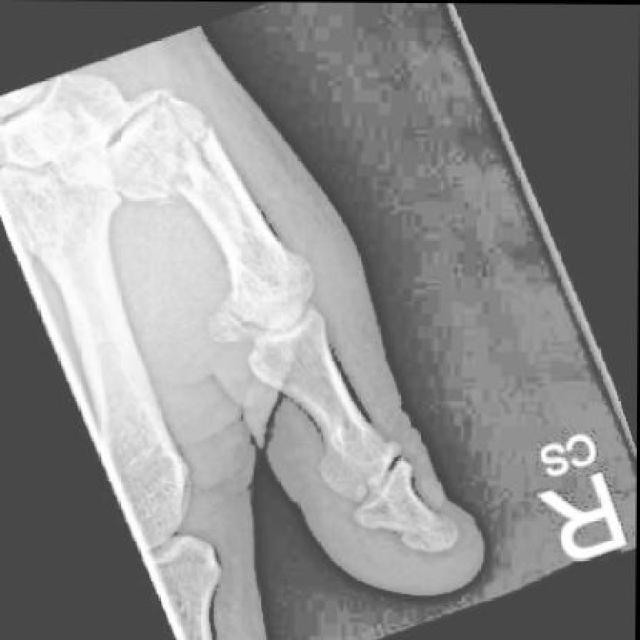Fracture: (118, 78, 242, 207)
